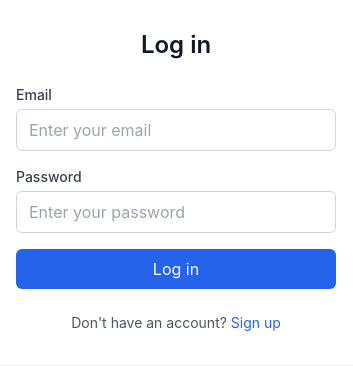
it: Login › shows validation error when submitting empty form
Click the button "Log in": {"x": 176, "y": 269} [16,249,336,289]
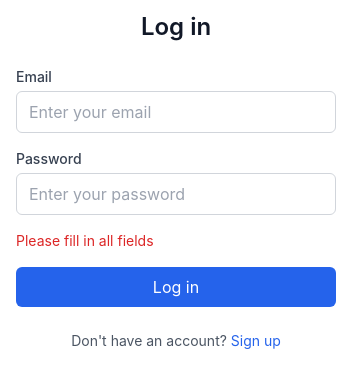
Check: the text "Please fill in all fields" is shown, box [16,232,154,249]
